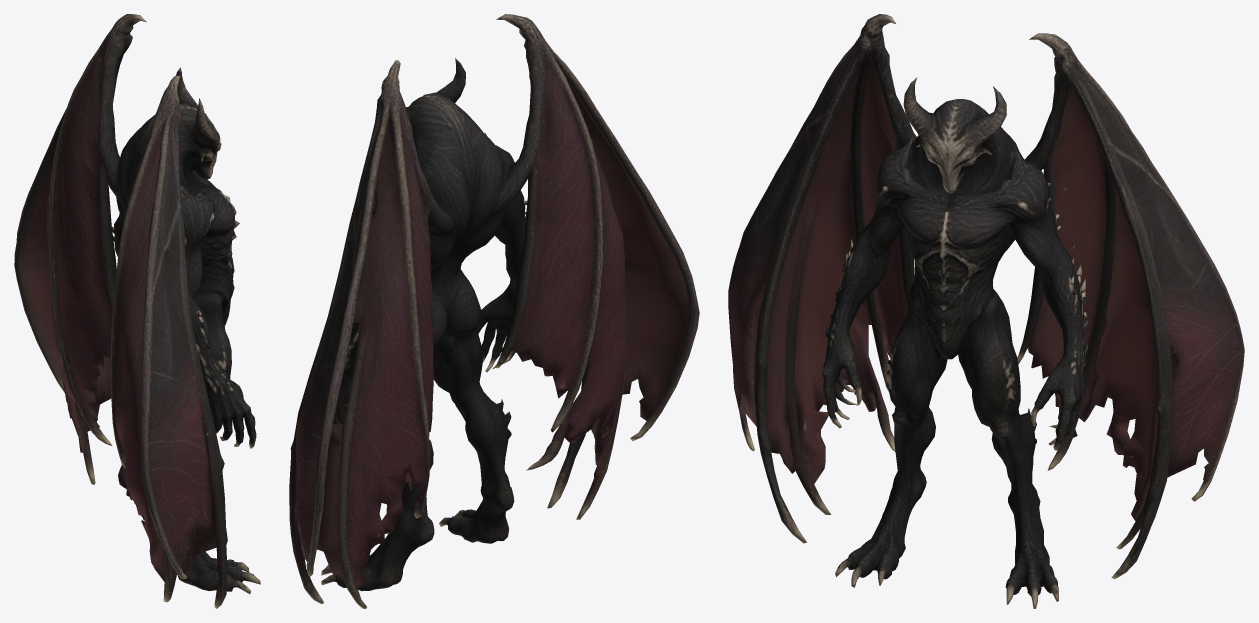
The model's file is model_url.glb.
3 views of the same model, side by side, from view 1: azimuth 30°, elevation 25°; view 2: azimuth 150°, elevation 25°; view 3: azimuth 270°, elevation 25° (orthographic). The views are drawn at different scales.
Visible parts, largest first — view 1: tripo_node_1a89f28f-1481-41c8-9f1c-6082eaf82379; view 2: tripo_node_1a89f28f-1481-41c8-9f1c-6082eaf82379; view 3: tripo_node_1a89f28f-1481-41c8-9f1c-6082eaf82379.
Part boxes in pixels (x1,y1,x2,y2): tripo_node_1a89f28f-1481-41c8-9f1c-6082eaf82379: (14, 14, 260, 608); tripo_node_1a89f28f-1481-41c8-9f1c-6082eaf82379: (289, 14, 699, 608); tripo_node_1a89f28f-1481-41c8-9f1c-6082eaf82379: (728, 14, 1244, 608).
Size of the model in its own units: 0.4442 by 1 by 0.8708.
Materials: 1 (1 with a texture image).
